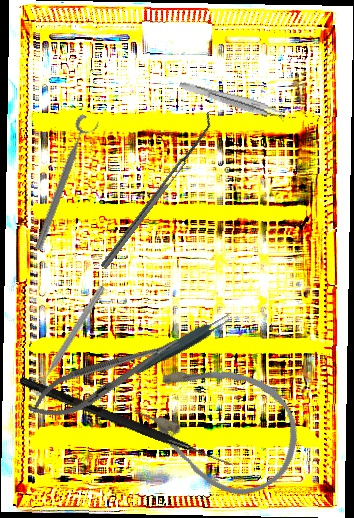Cannula: (119, 335, 317, 513)
Fixation Ring: (23, 279, 109, 399), (30, 113, 102, 255)
Hook Surgical: (17, 376, 236, 469)
Needle Holder: (22, 324, 188, 431)
Spatula Surgical: (94, 110, 220, 270)
Tissue Forceps: (130, 310, 235, 379), (176, 80, 288, 123)
